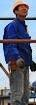boots: (0, 0, 10, 4), (0, 0, 6, 4)
gloves: (14, 58, 23, 68), (0, 73, 4, 82)
hard-hat: (10, 1, 27, 13)
ppe-suit: (0, 0, 18, 53)
